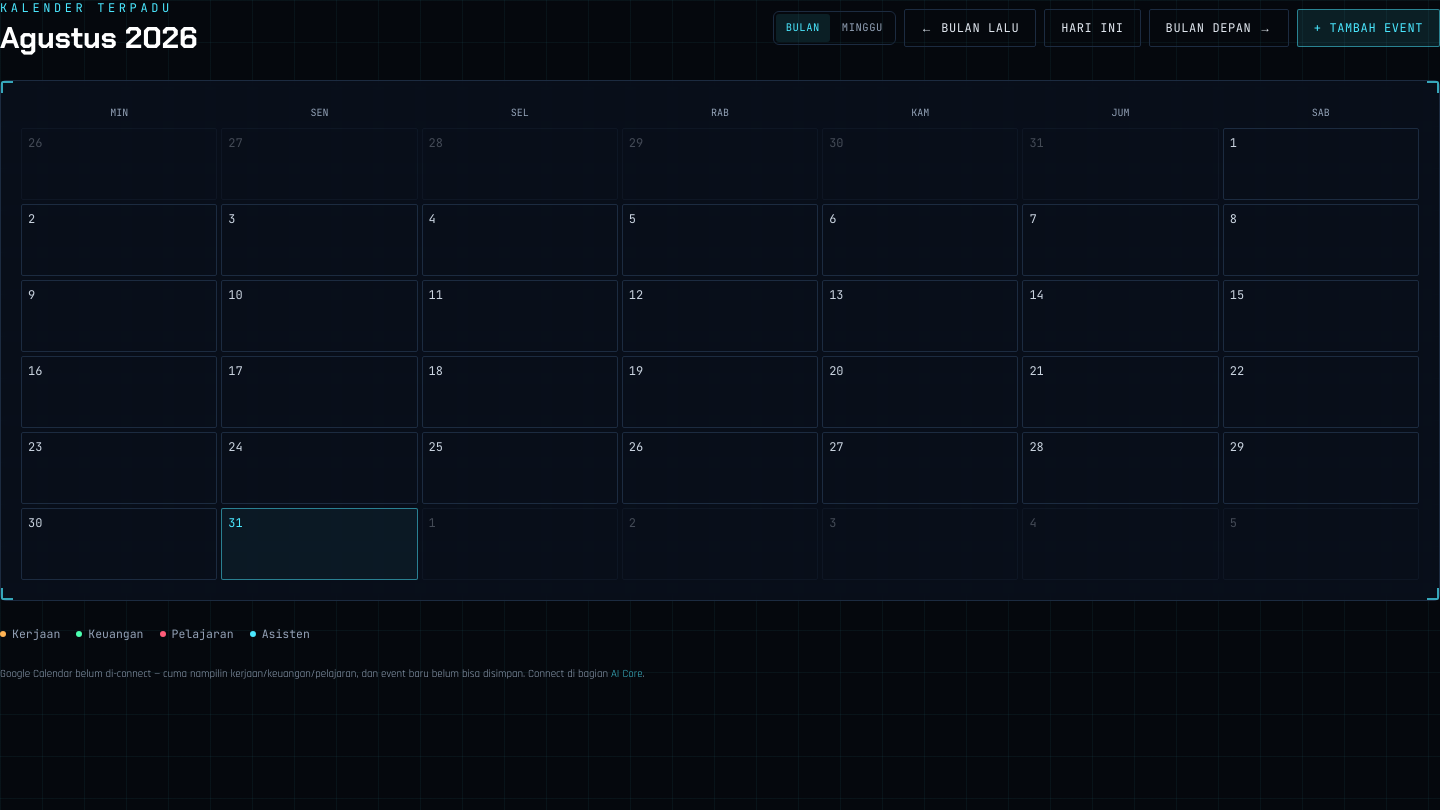
Test case: KalenderPage › doesn't show an Edit button for an all-day Google event, only Delete
Click the 2nd button "31" at (319, 544), box 221,508 -> 418,580
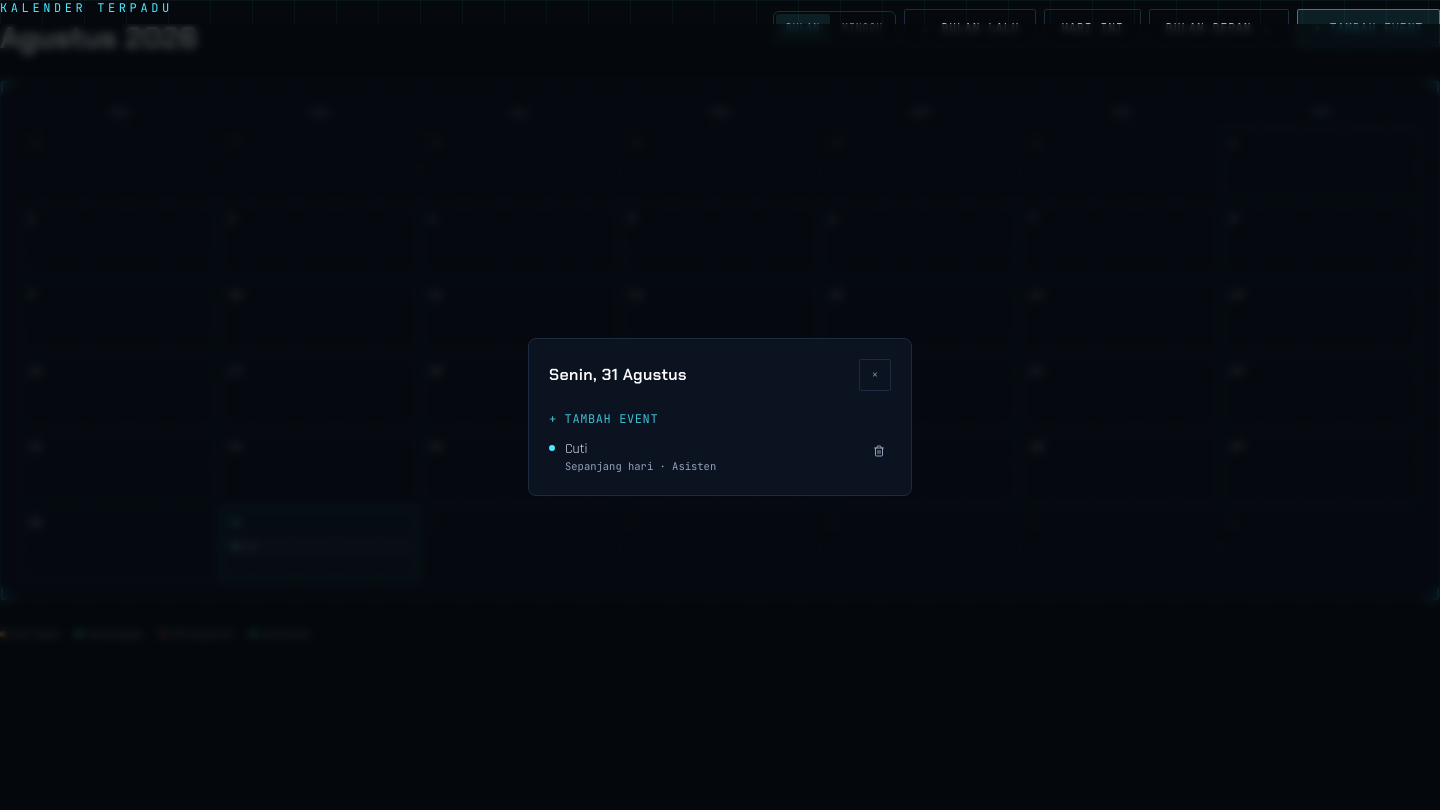
Now the button named "Hapus Cuti" is shown, box 867,439 -> 891,463
